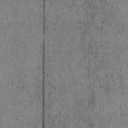surface scratch: (42, 38, 46, 128), (42, 0, 46, 36)
